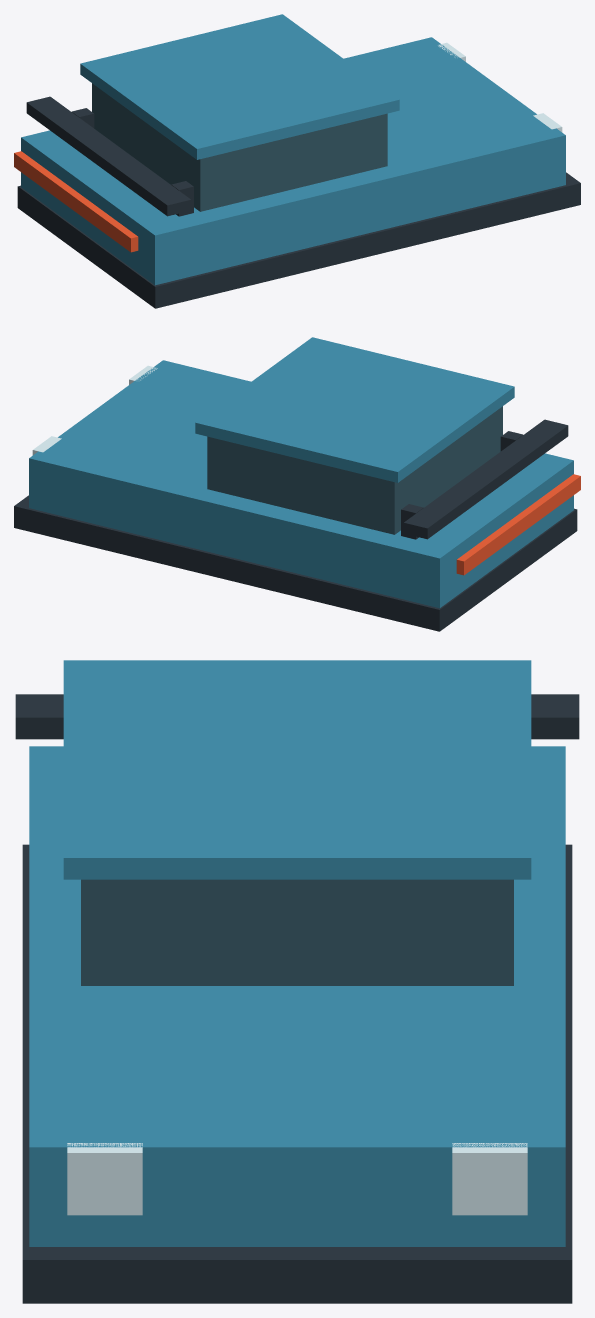
3 renders of one model, top to bottom at view 1: azimuth 30°, elevation 25°; view 2: azimuth 150°, elevation 25°; view 3: azimuth 270°, elevation 25°, orthographic. The views are drawn at different scales.
Parts seen in each view (by area): view 1: flat-car-body; view 2: flat-car-body; view 3: flat-car-body.
Part boxes in pixels (x1,y1,x2,y2): flat-car-body: (14,14,580,308); flat-car-body: (14,337,580,631); flat-car-body: (15,660,579,1303).
Bounding box in the file's own units: 1.48 × 0.6225 × 0.82.
